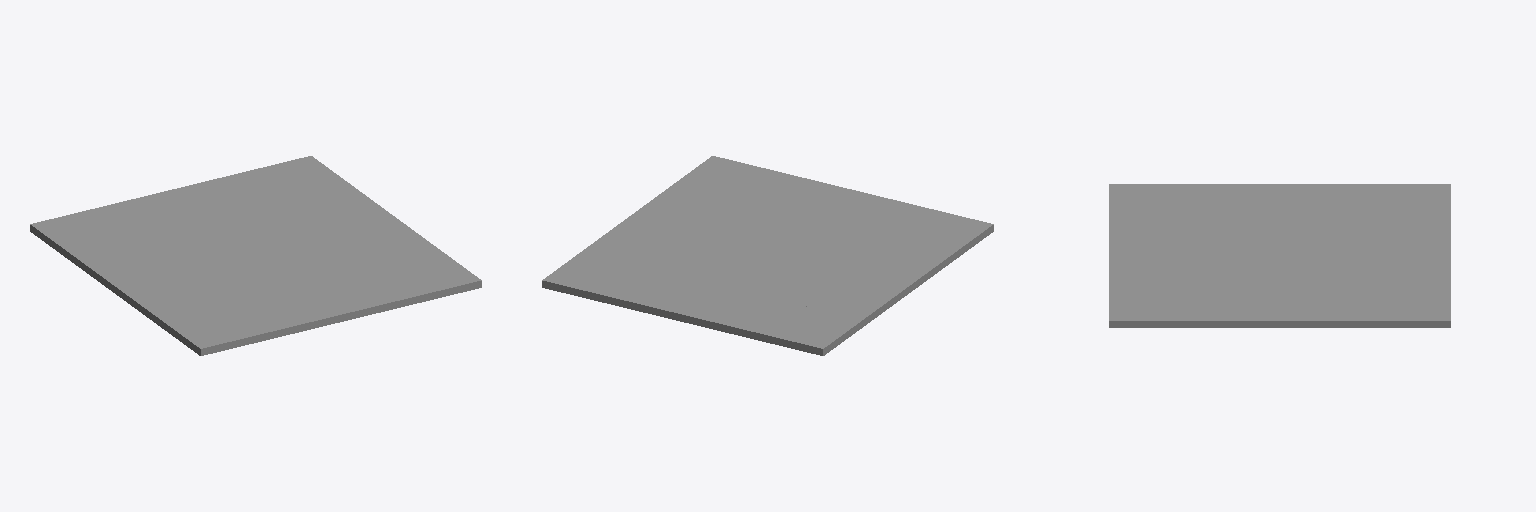
Rendered from Grass_Block3.obj.
3 renders of one model, left to right at view 1: azimuth 30°, elevation 25°; view 2: azimuth 150°, elevation 25°; view 3: azimuth 270°, elevation 25°, orthographic.
Visible parts, largest first — view 1: Grass_Block_Cube.002; view 2: Grass_Block_Cube.002; view 3: Grass_Block_Cube.002.
Boxes of the visible parts, x1,y1,x2,y2 form: Grass_Block_Cube.002: [30, 156, 481, 355]; Grass_Block_Cube.002: [542, 156, 993, 355]; Grass_Block_Cube.002: [1109, 184, 1450, 327].
Size of the model in its own units: 10.09 by 0.2523 by 10.6.